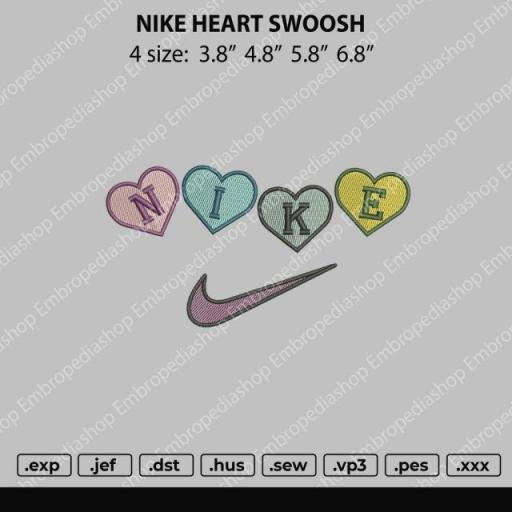Nike: (185, 262, 342, 329)
